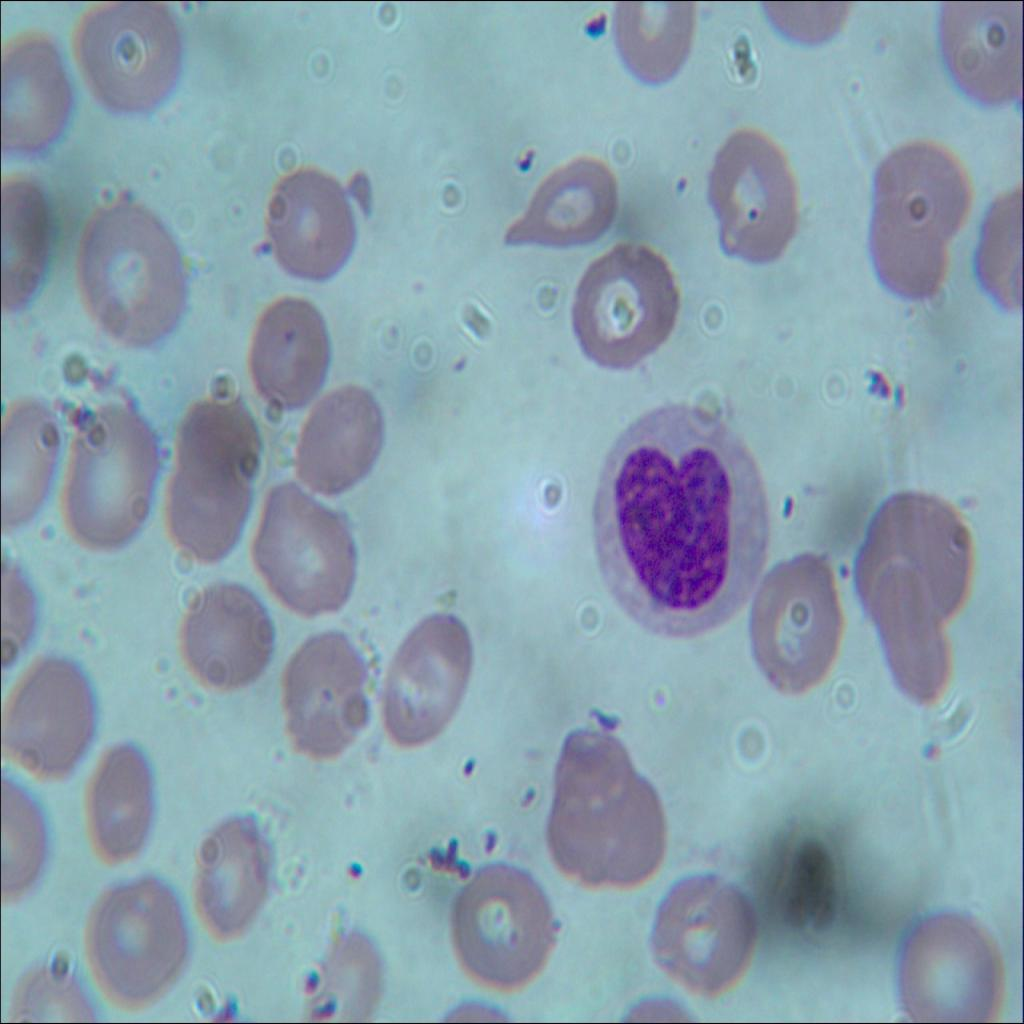Eritrosit: (72, 185, 186, 354), (849, 478, 975, 619), (443, 854, 563, 996), (75, 864, 188, 1009), (649, 858, 758, 1004), (569, 241, 686, 376), (64, 392, 155, 554), (254, 484, 359, 621), (752, 539, 846, 691), (378, 602, 471, 748), (706, 122, 798, 268), (268, 624, 370, 755), (864, 550, 948, 704), (258, 164, 364, 286), (72, 0, 182, 112), (898, 904, 999, 1023), (180, 574, 278, 694), (294, 379, 388, 498), (502, 158, 618, 254), (0, 661, 98, 767), (244, 289, 331, 408), (190, 801, 269, 929), (0, 44, 83, 165), (862, 191, 950, 305), (171, 388, 262, 492), (868, 134, 966, 230), (586, 766, 661, 888), (941, 0, 1023, 111), (81, 737, 155, 858), (162, 454, 242, 558), (0, 392, 56, 534), (556, 719, 630, 826), (296, 931, 381, 1023), (611, 0, 695, 87), (0, 171, 50, 307), (544, 788, 618, 879)
Limfoblast: (589, 402, 770, 632)
Platelet: (330, 854, 372, 892), (826, 545, 856, 595), (670, 156, 702, 200), (770, 484, 798, 534), (736, 192, 771, 231), (478, 821, 506, 861), (922, 734, 946, 777), (316, 989, 338, 1023), (276, 322, 298, 355), (254, 228, 276, 259), (455, 755, 476, 781), (299, 968, 319, 986)
